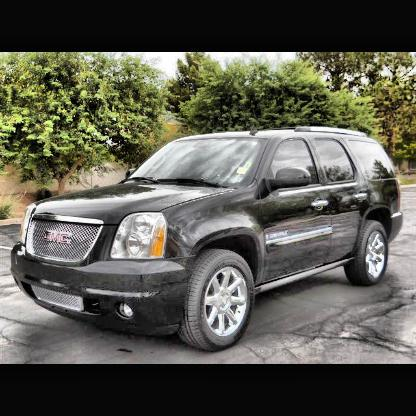GMC Yukon Hybrid SUV 2012: (12, 128, 402, 349)
